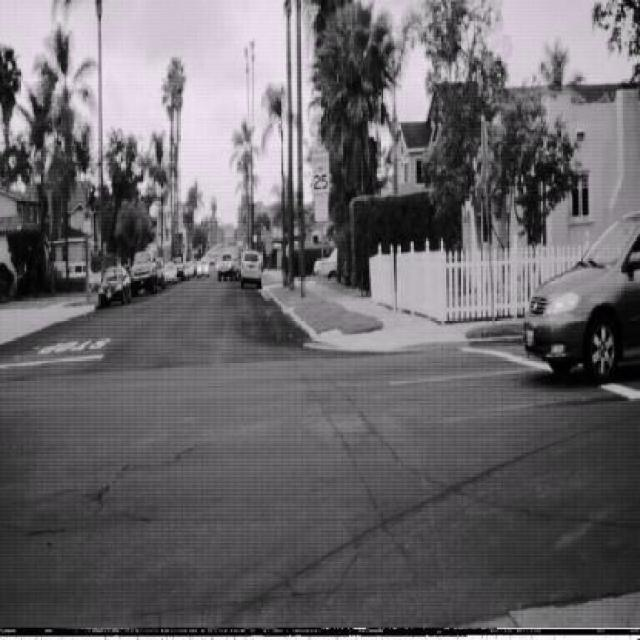speedLimit25: (310, 148, 330, 196)
